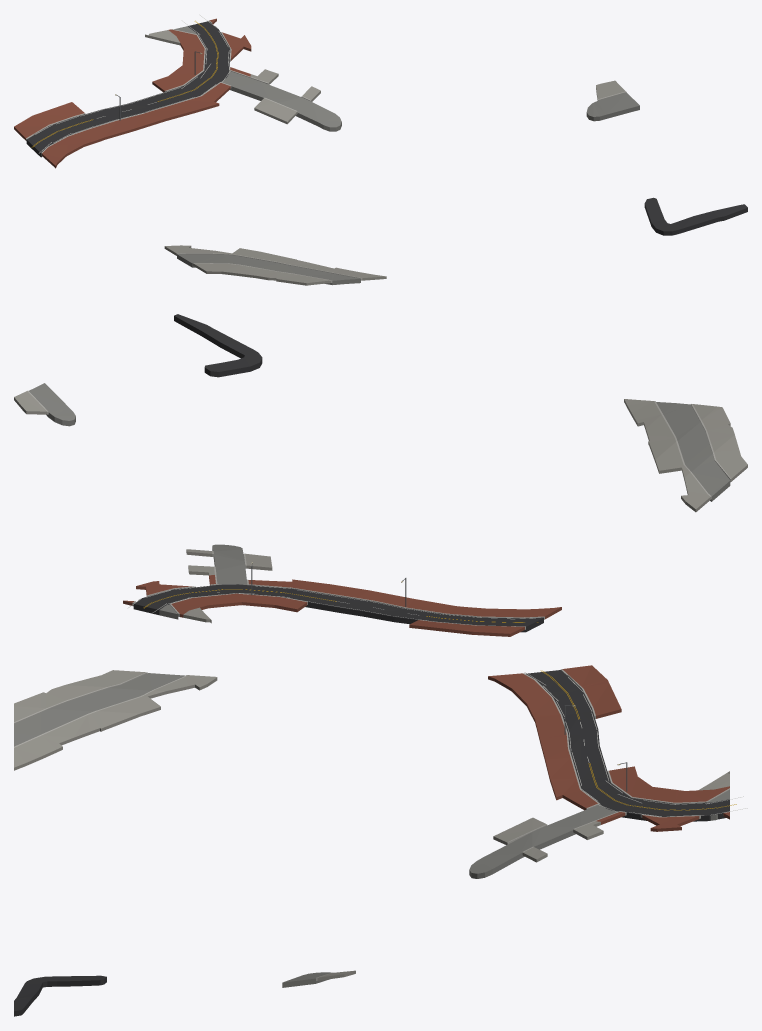
3 renders of one model, top to bottom at view 1: azimuth 30°, elevation 25°; view 2: azimuth 150°, elevation 25°; view 3: azimuth 270°, elevation 25°, orthographic. The views are drawn at different scales.
Size of the model in its own units: 148 by 18.38 by 149.
